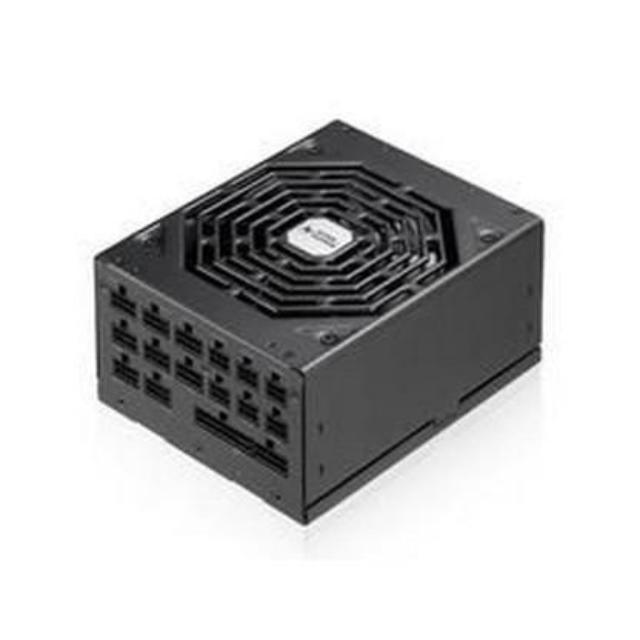PSU: (74, 116, 548, 530)
